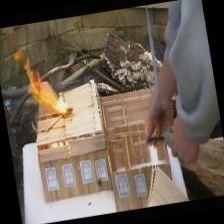fire: (16, 43, 73, 122)
